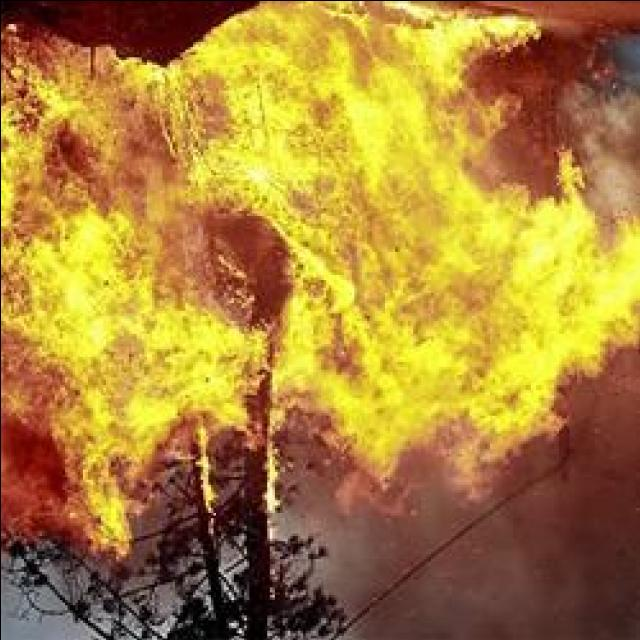fire: (188, 7, 482, 201), (304, 212, 640, 380), (42, 232, 210, 457)
